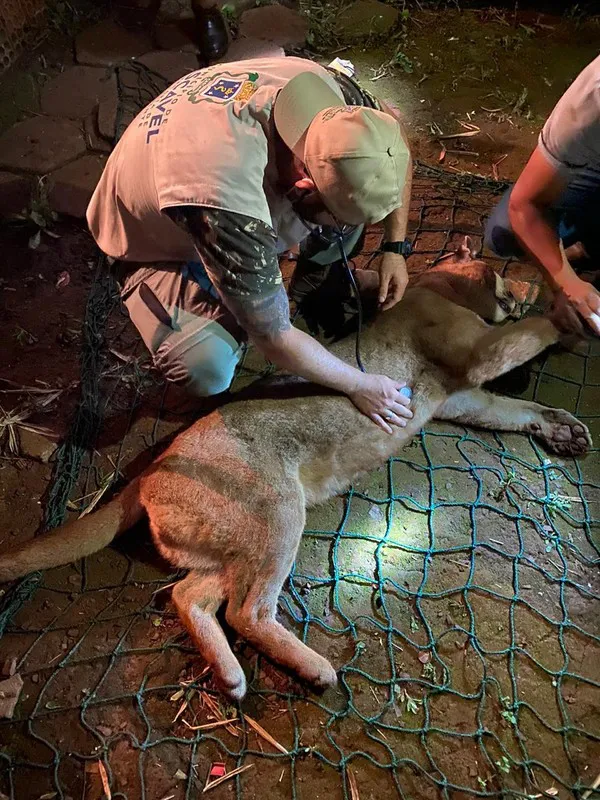OncaParda: (104, 237, 591, 689)
